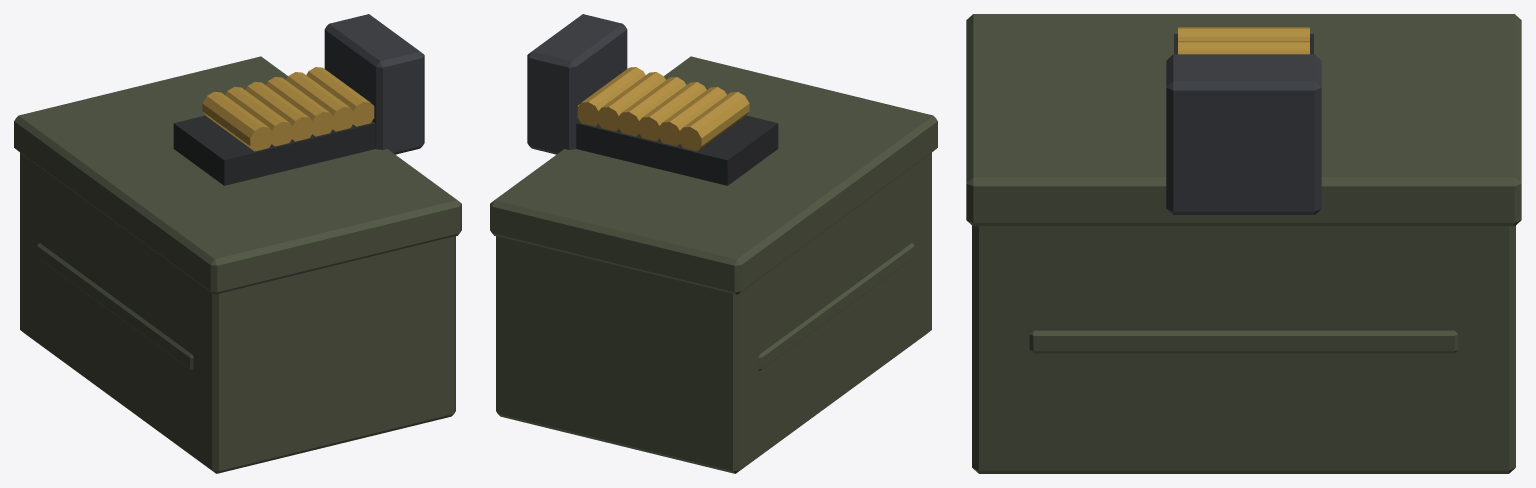
The model's file is mod_cyclone_box_500.glb.
3 views of the same model, side by side, from view 1: azimuth 30°, elevation 25°; view 2: azimuth 150°, elevation 25°; view 3: azimuth 270°, elevation 25° (orthographic). The views are drawn at different scales.
Visible parts, largest first — view 1: AmmoBox, AmmoBoxBelt; view 2: AmmoBox, AmmoBoxBelt; view 3: AmmoBox, AmmoBoxBelt.
Part boxes in pixels (x1=…): AmmoBox: x1=14, y1=14, x2=461, y2=473; AmmoBoxBelt: x1=173, y1=67, x2=375, y2=185; AmmoBox: x1=490, y1=14, x2=937, y2=473; AmmoBoxBelt: x1=576, y1=67, x2=778, y2=185; AmmoBox: x1=966, y1=14, x2=1521, y2=473; AmmoBoxBelt: x1=1174, y1=27, x2=1313, y2=54.
Bounding box in the file's own units: 0.1175 × 0.119 × 0.143.
